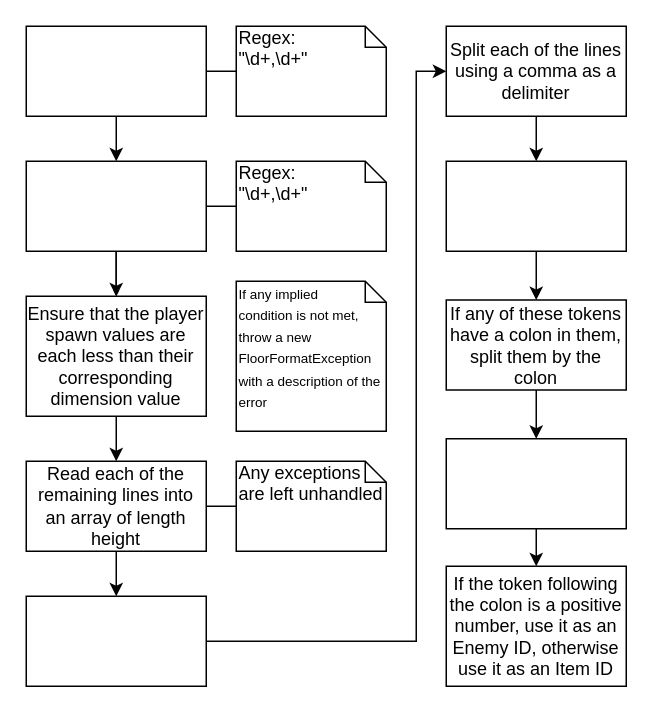
The diagram is 653 pixels wide and 713 high, and some of its shapes have lost their labels. The centre of each missing label's shape, as x and y in pixels:
Ensure that each line has exactly width tokens: pixel 535 205
Ensure that the number of lines read is exactly equal to height: pixel 115 640
Read the player spawn location tokens exist on the second line: pixel 115 205
Read the width and height tokens exist on the first line: pixel 115 70
Use the token preceding the colon as a Tile ID: pixel 535 483
